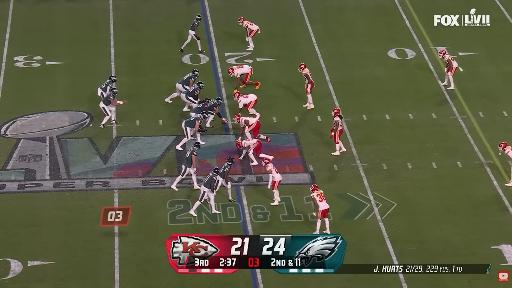Helmet: (438, 49, 447, 58), (200, 111, 208, 120), (310, 184, 319, 192), (332, 108, 340, 116), (499, 142, 507, 150), (191, 69, 199, 77), (262, 159, 271, 166), (234, 91, 241, 100), (234, 114, 241, 123), (227, 157, 234, 165), (110, 88, 118, 95), (196, 82, 204, 89), (212, 167, 219, 175), (299, 63, 306, 71), (228, 67, 234, 76), (193, 142, 200, 149), (109, 75, 116, 82), (216, 97, 222, 105), (236, 141, 242, 148), (238, 18, 244, 25), (196, 15, 201, 21)
Jersey: (311, 191, 329, 210), (266, 163, 282, 181), (238, 94, 257, 109), (184, 148, 197, 168), (203, 173, 217, 190), (184, 86, 200, 100), (233, 65, 251, 77), (184, 116, 202, 128), (191, 102, 209, 114), (100, 80, 115, 94), (179, 74, 196, 86), (239, 117, 258, 127), (242, 139, 259, 150), (207, 101, 220, 115), (219, 164, 231, 178), (443, 54, 457, 66), (333, 115, 343, 131), (102, 93, 115, 105), (302, 69, 312, 84), (243, 21, 259, 30), (190, 20, 198, 31), (504, 146, 511, 158)
Player: (190, 167, 220, 216), (171, 142, 200, 190), (165, 69, 199, 103), (176, 113, 207, 150), (234, 113, 271, 143), (100, 88, 126, 128), (310, 185, 330, 234), (236, 139, 273, 165), (180, 15, 204, 53), (263, 159, 282, 205), (216, 157, 235, 202), (228, 65, 260, 91), (330, 108, 346, 155), (439, 50, 458, 89), (299, 63, 314, 109), (239, 18, 260, 50), (181, 82, 204, 111), (206, 98, 227, 127), (234, 91, 257, 114), (98, 75, 116, 98), (190, 98, 209, 116), (499, 142, 511, 158)
